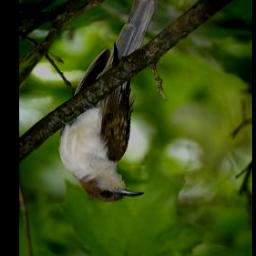Cuckoo: (56, 0, 163, 204)
